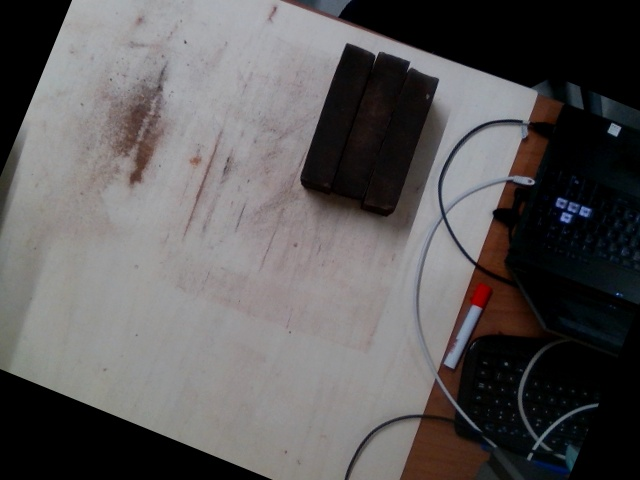brick-side: (363, 67, 440, 210), (332, 52, 409, 195), (299, 43, 376, 185)
